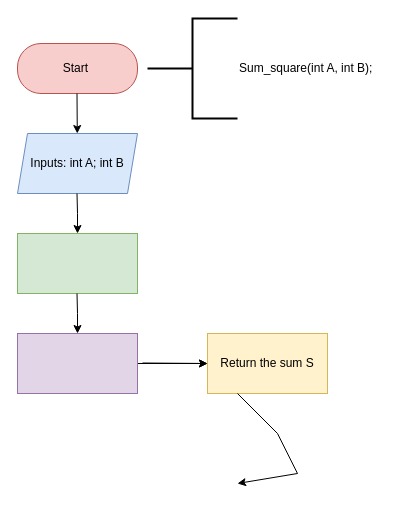
Some shapes in this 394 by 509 pixel diagram are drawn without their labels. The centre of each missing label's shape, as x and y in pixels:
"Compute: A_square=A*A B_square=B*B" goes at [77,263].
"Sum A_square and B_square S=A_square + B_square" goes at [77,363].
